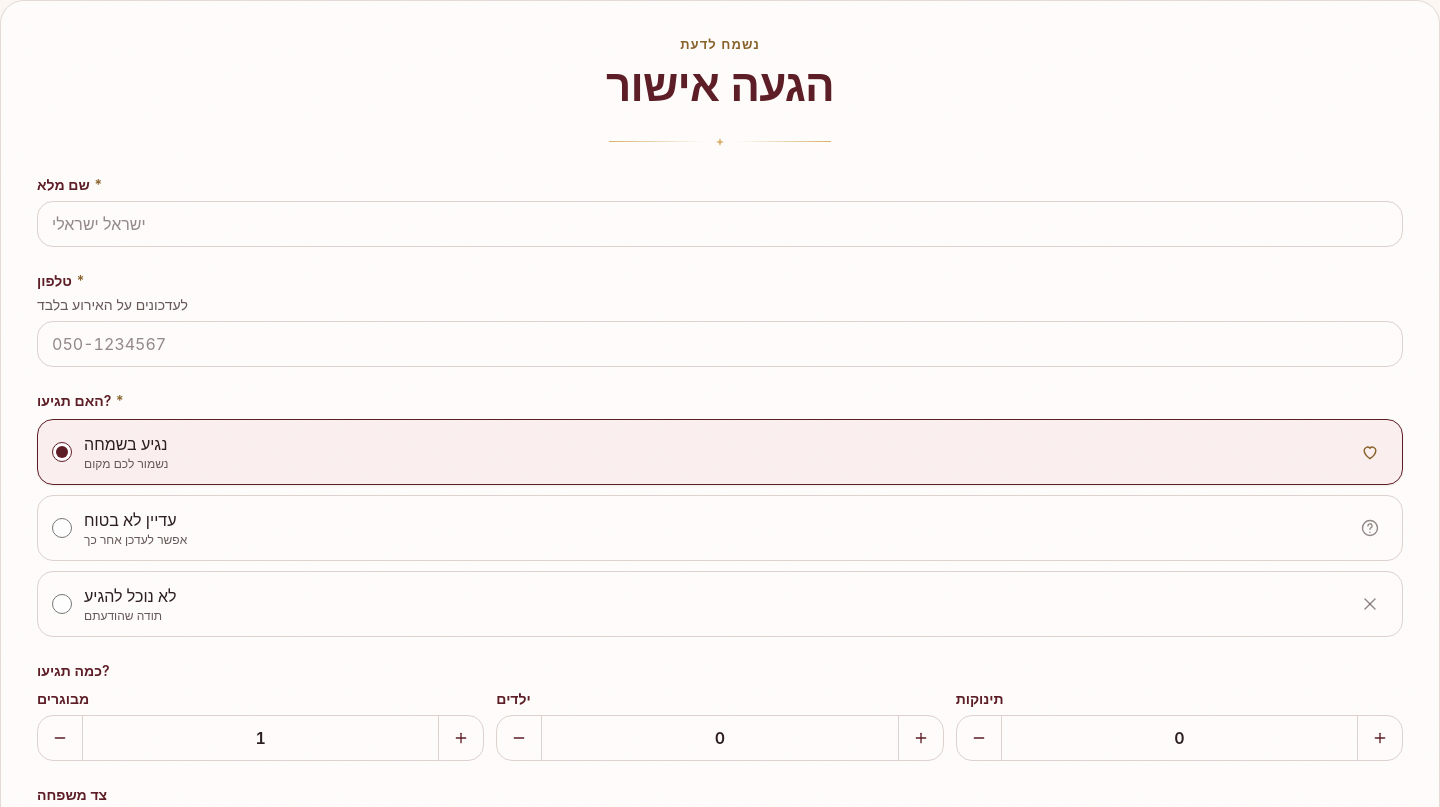
Test: RsvpForm › hides the head counts once a guest says they cannot come
Click the radio button labelled "לא נוכל להגיע": (62, 604) [52,594,72,614]
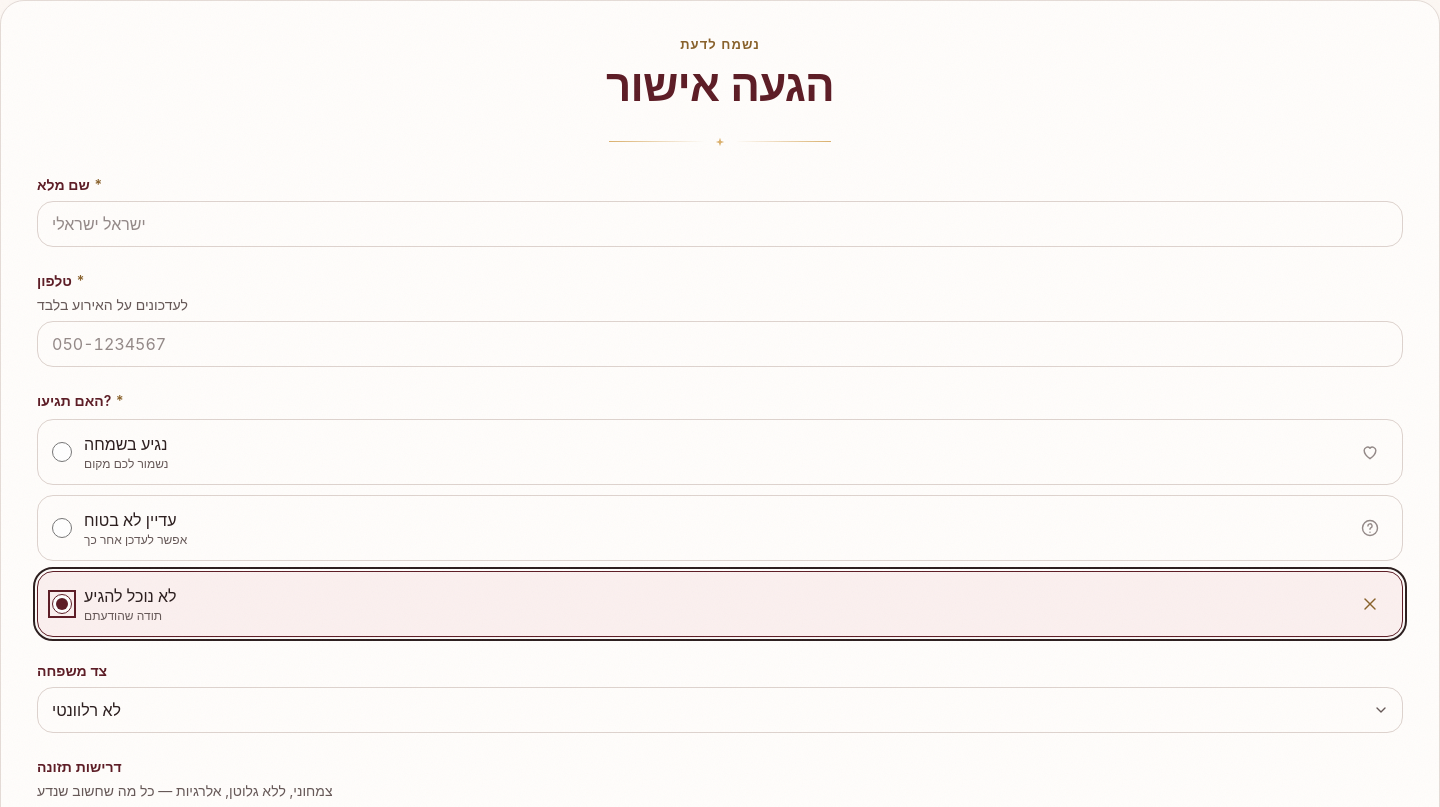
Result: the label labelled "מבוגרים" is gone
